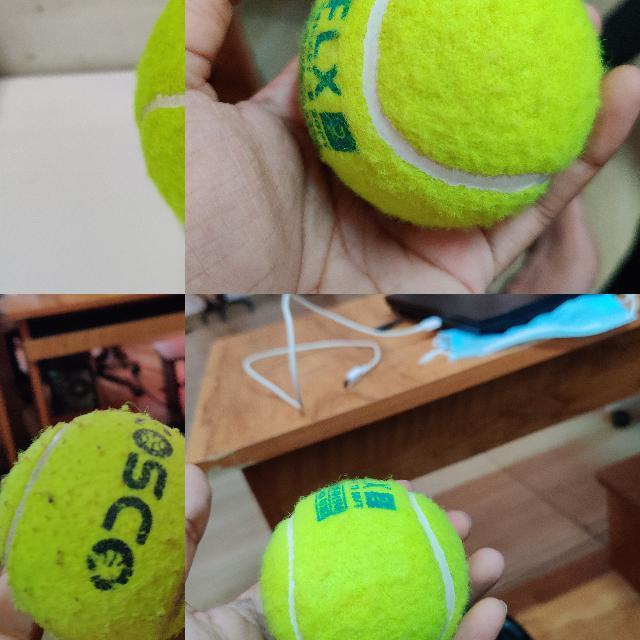tennis-ball: (299, 0, 600, 226), (0, 408, 184, 639), (262, 479, 469, 639), (131, 0, 184, 281)
